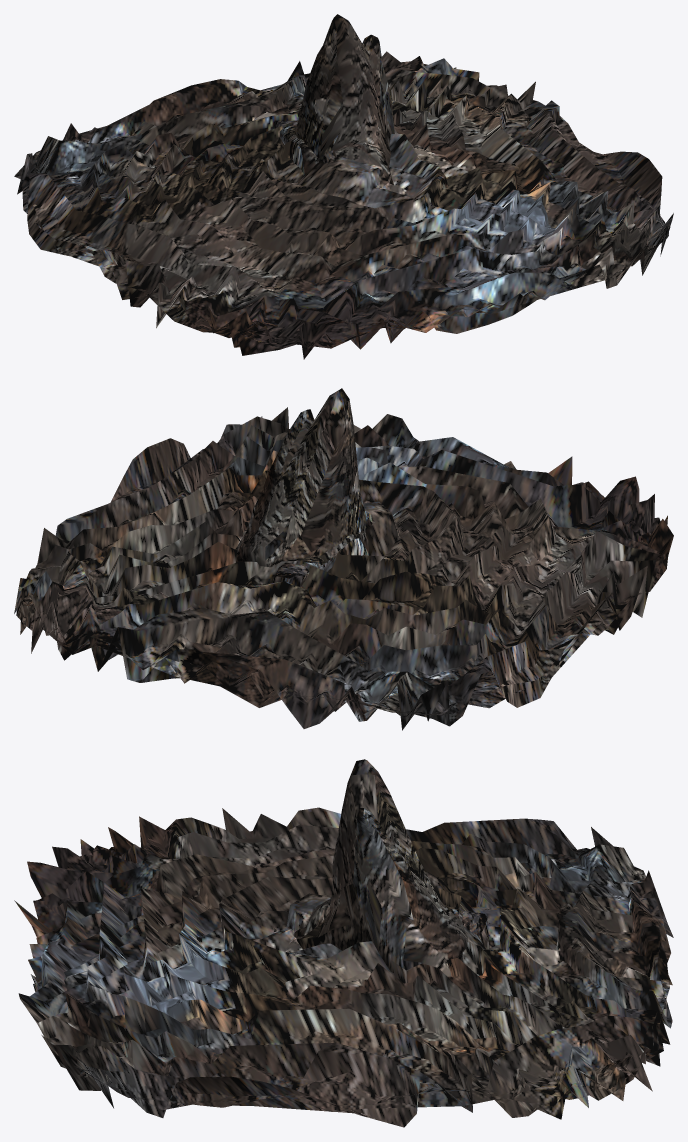
File: Shapes.fbx
3 renders of one model, top to bottom at view 1: azimuth 30°, elevation 25°; view 2: azimuth 150°, elevation 25°; view 3: azimuth 270°, elevation 25°, orthographic. The views are drawn at different scales.
Parts seen in each view (by area): view 1: GroundShape2, GroundShape3, GroundShape1, Shape3, Shape2; view 2: GroundShape2, GroundShape3, Shape3, GroundShape1, Shape2; view 3: GroundShape2, GroundShape3, Shape3, GroundShape1, Shape2.
Boxes of the visible parts, x1,y1,x2,y2 form: GroundShape2: [17, 51, 673, 359]; GroundShape3: [19, 61, 665, 347]; GroundShape1: [14, 84, 668, 355]; Shape3: [294, 14, 394, 187]; Shape2: [274, 120, 318, 175]; GroundShape2: [14, 407, 673, 730]; GroundShape3: [17, 435, 666, 718]; Shape3: [235, 388, 375, 567]; GroundShape1: [16, 461, 668, 715]; Shape2: [273, 532, 368, 586]; GroundShape2: [14, 807, 673, 1127]; GroundShape3: [28, 831, 672, 1107]; Shape3: [293, 759, 467, 976]; GroundShape1: [29, 847, 670, 1111]; Shape2: [448, 908, 489, 949].
Size of the model in its own units: 5006 by 2572 by 5116.
